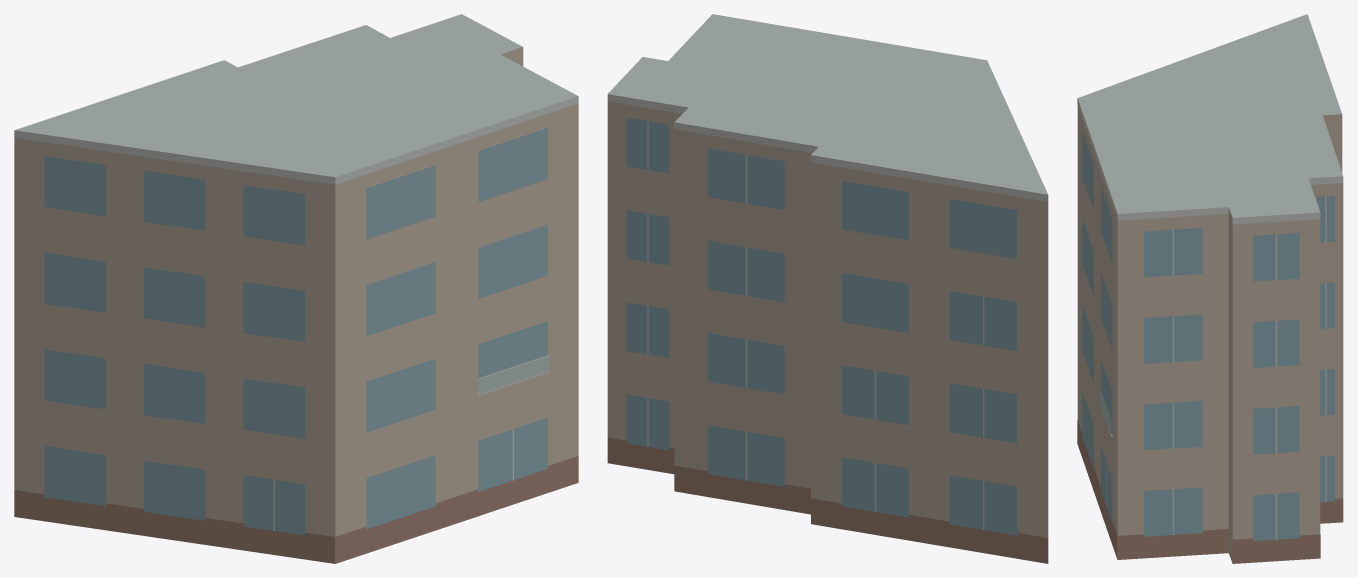
The model's file is survey-upis-32871715.glb.
3 views of the same model, side by side, from view 1: azimuth 30°, elevation 25°; view 2: azimuth 150°, elevation 25°; view 3: azimuth 270°, elevation 25° (orthographic). The views are drawn at different scales.
Parts seen in each view (by area): view 1: survey-upis-32871715.tmp; view 2: survey-upis-32871715.tmp; view 3: survey-upis-32871715.tmp.
Part boxes in pixels (left/top/right/bottom): survey-upis-32871715.tmp: left=14, top=14, right=578, bottom=563; survey-upis-32871715.tmp: left=607, top=14, right=1048, bottom=563; survey-upis-32871715.tmp: left=1077, top=14, right=1343, bottom=563.
Bounding box in the file's own units: 15.88 × 12.55 × 8.75.
